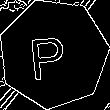P_N: (32, 26, 75, 81)
